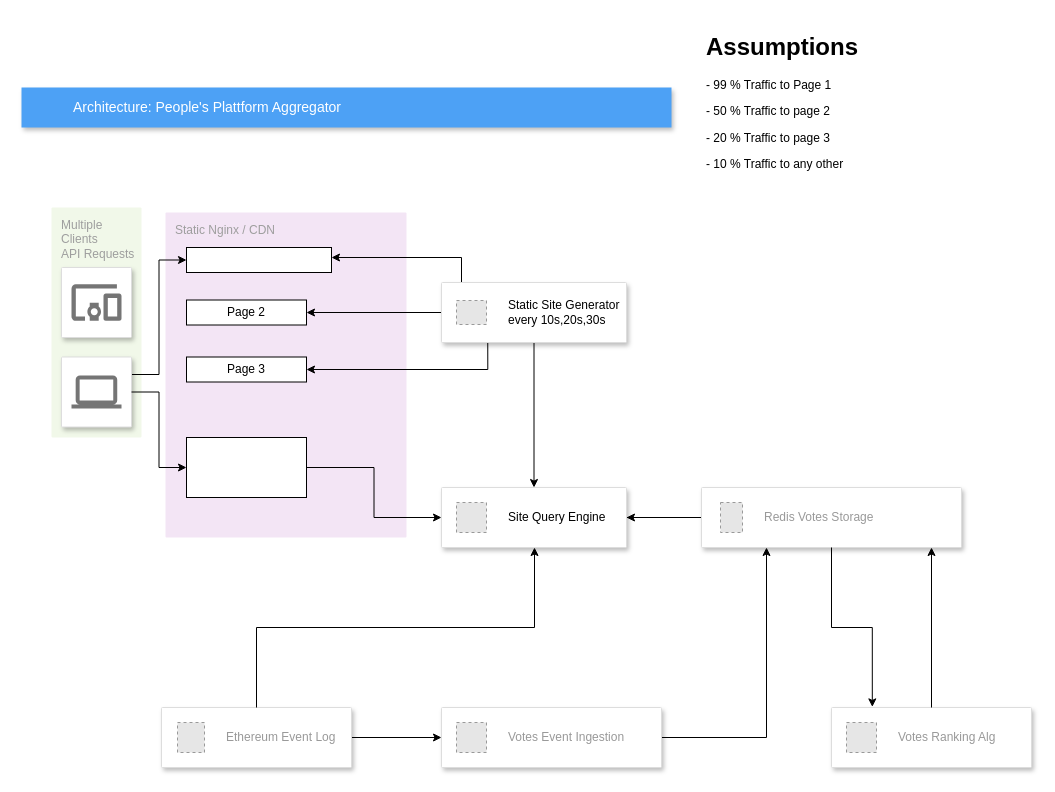
Image size: 1055x792. Some labels were removed from this diagram. Grey dashed boxes stand in for pictures. The centre of each missing label's shape, as x and y in pixels:
Page 1: [259,259]
Page 4 and Filter: [246,467]
